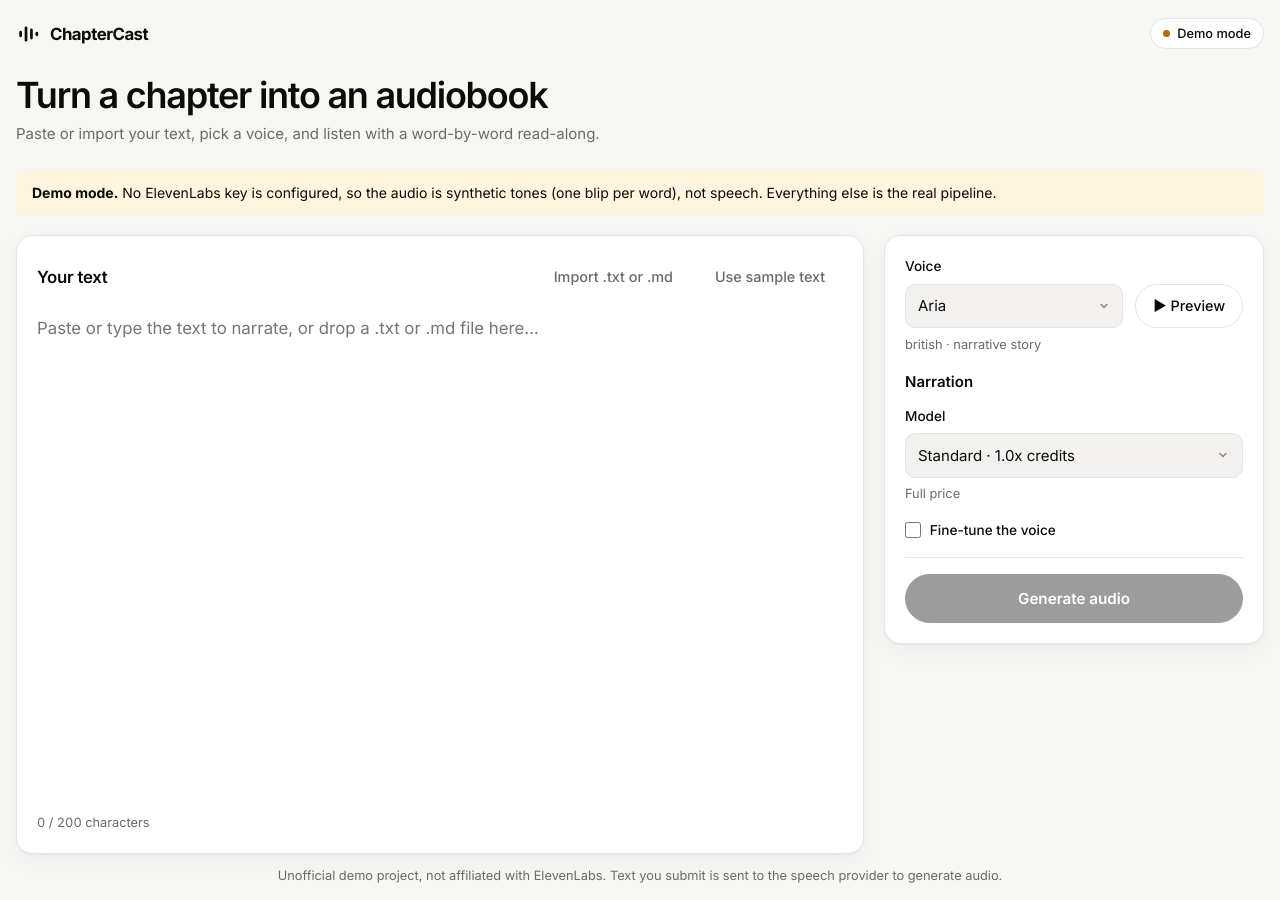
Test: App › plays a free voice preview and describes the voice
expect the text "british · narrative story" is shown: met, box [905, 337, 1041, 352]
Click the button with aria-label "Preview Aria". click: click(1189, 306)
box: [1136, 284, 1243, 328]
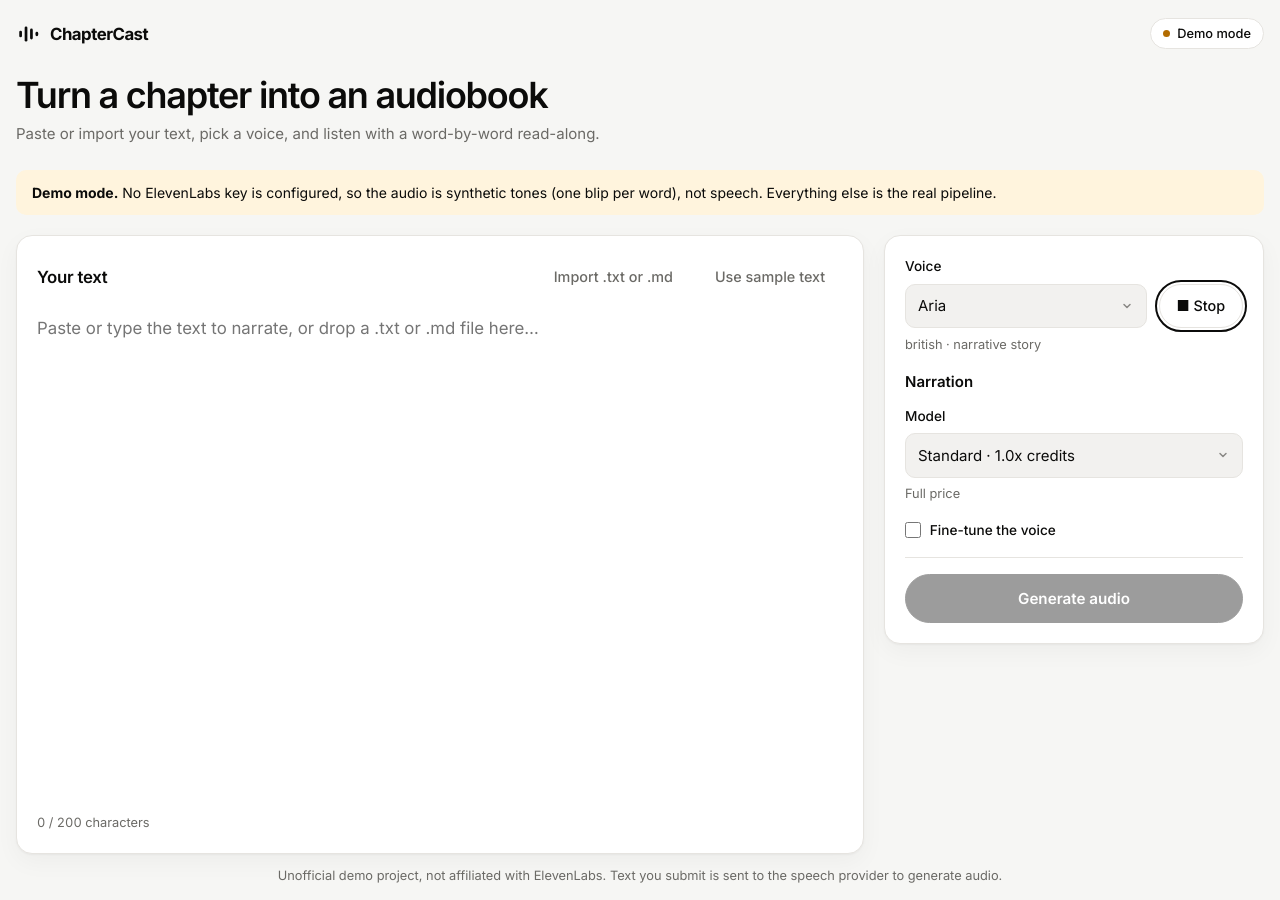
Click the button with aria-label "Stop voice preview". click: click(1201, 306)
box: [1159, 284, 1243, 328]
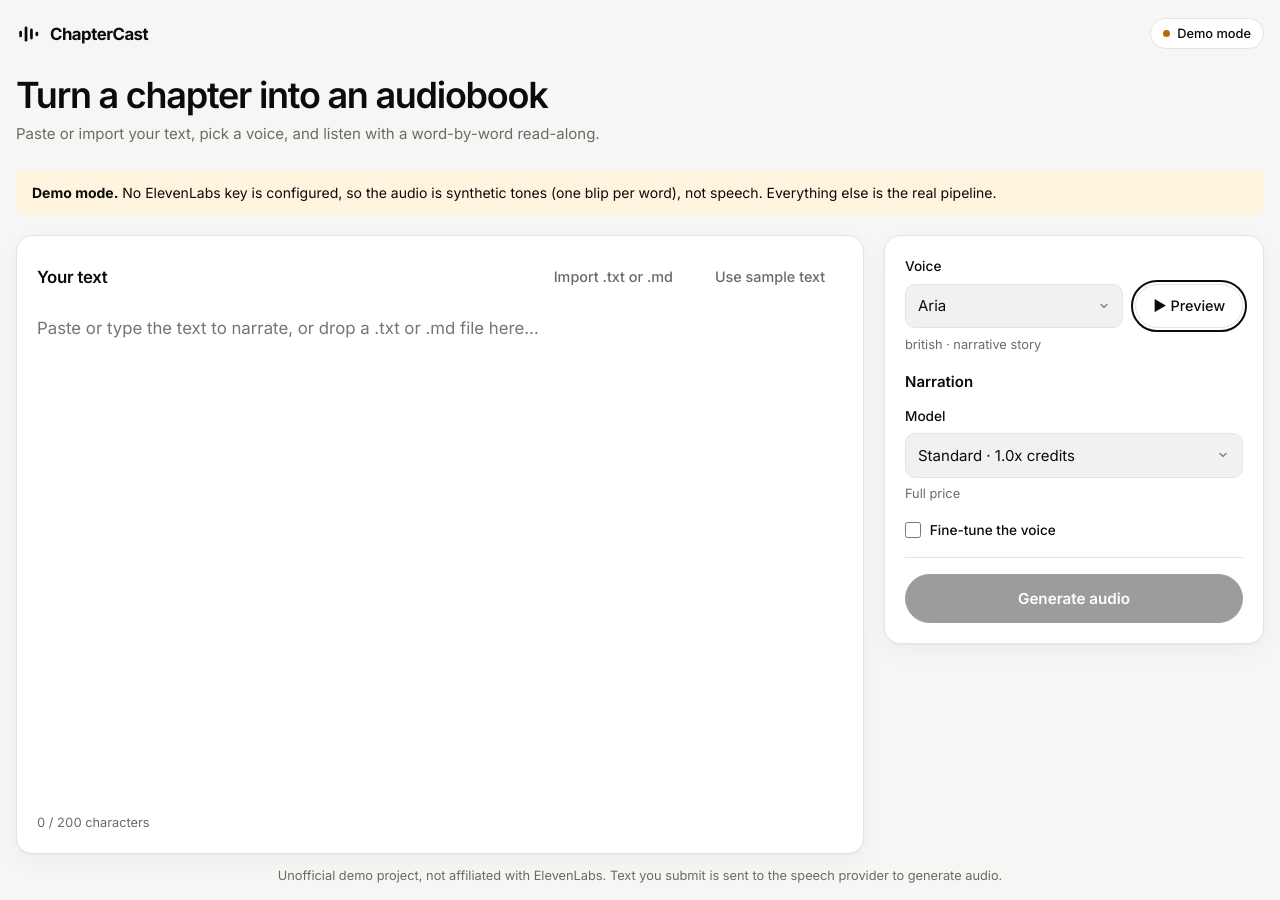
expect the button with aria-label "Preview Aria" is shown: met, box [1136, 284, 1243, 328]
Select "Orion" in the dropdown labelled "Voice". click: (1014, 306)
box: [905, 284, 1124, 328]
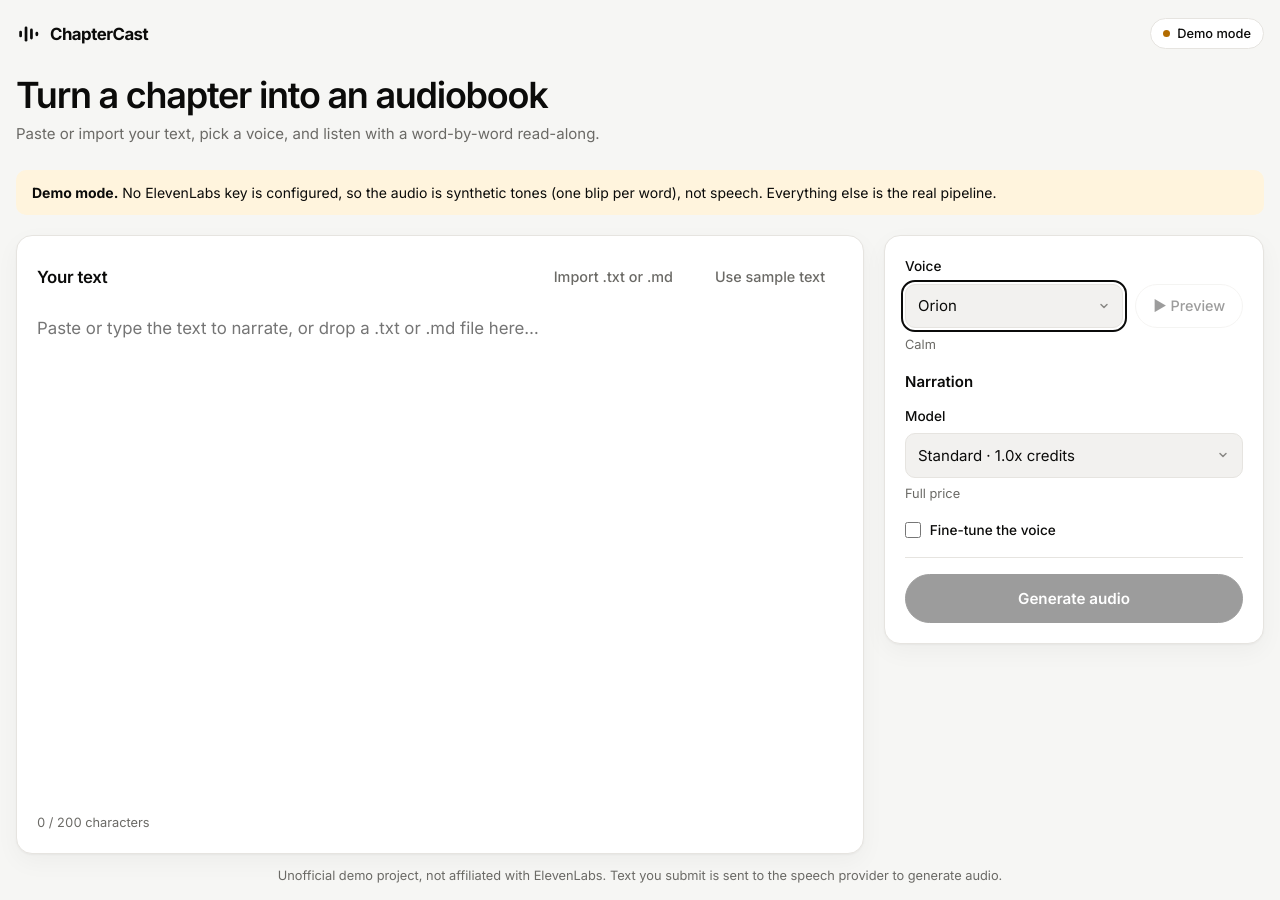
expect the button with aria-label "Preview Orion" is disabled: met, box [1136, 284, 1243, 328]
expect the text "Calm" is shown: met, box [905, 337, 936, 352]
